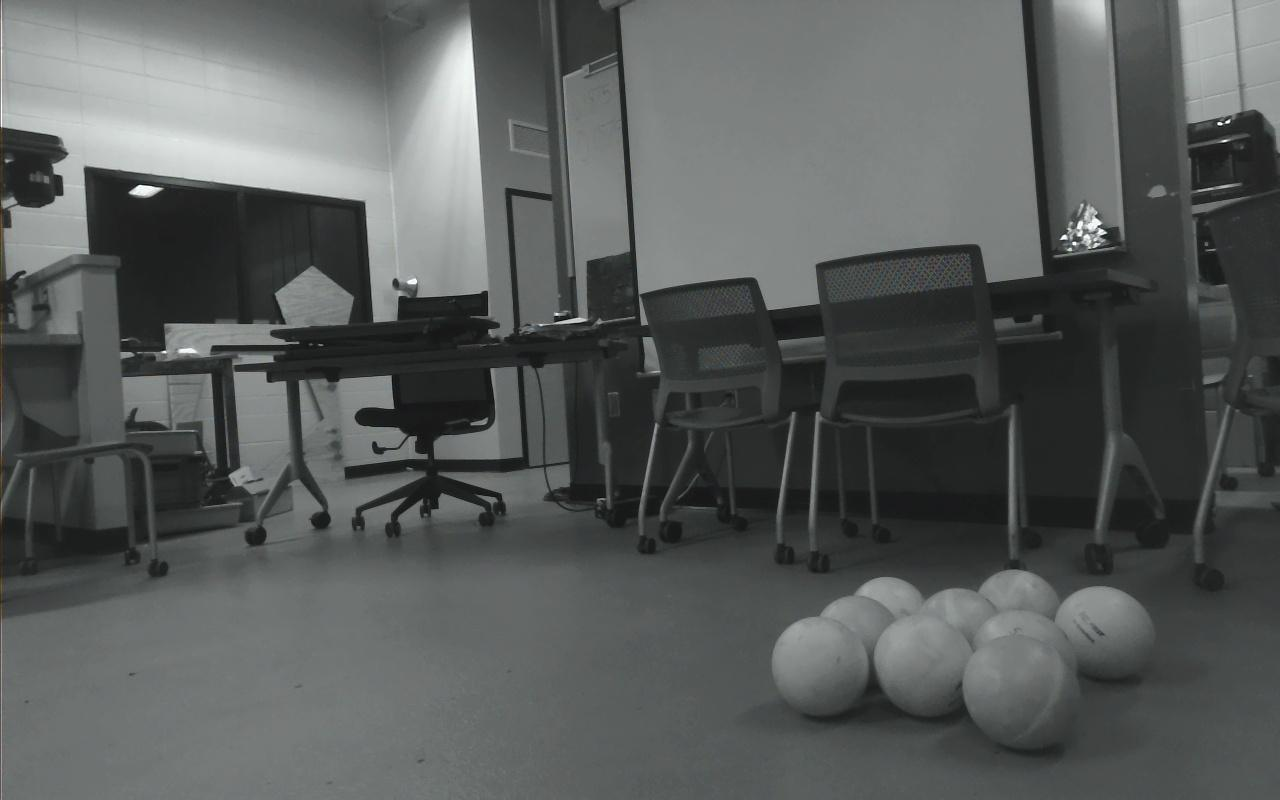Fuel: (961, 634, 1080, 750), (873, 614, 974, 719), (772, 616, 868, 716), (1055, 586, 1156, 680), (972, 609, 1076, 695), (814, 594, 896, 687), (916, 588, 1002, 676), (975, 569, 1062, 650), (851, 576, 928, 654)
